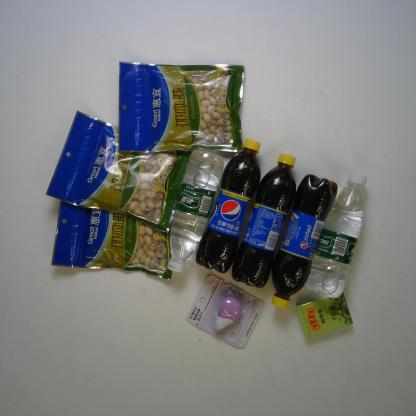Candy: (295, 292, 354, 338)
Dried Fruit: (43, 107, 196, 234), (50, 183, 175, 280), (118, 60, 246, 154)
Drink: (266, 171, 341, 314), (229, 152, 301, 290), (194, 136, 264, 276), (164, 144, 227, 277), (306, 172, 368, 300)
Stationery: (185, 274, 267, 350)
